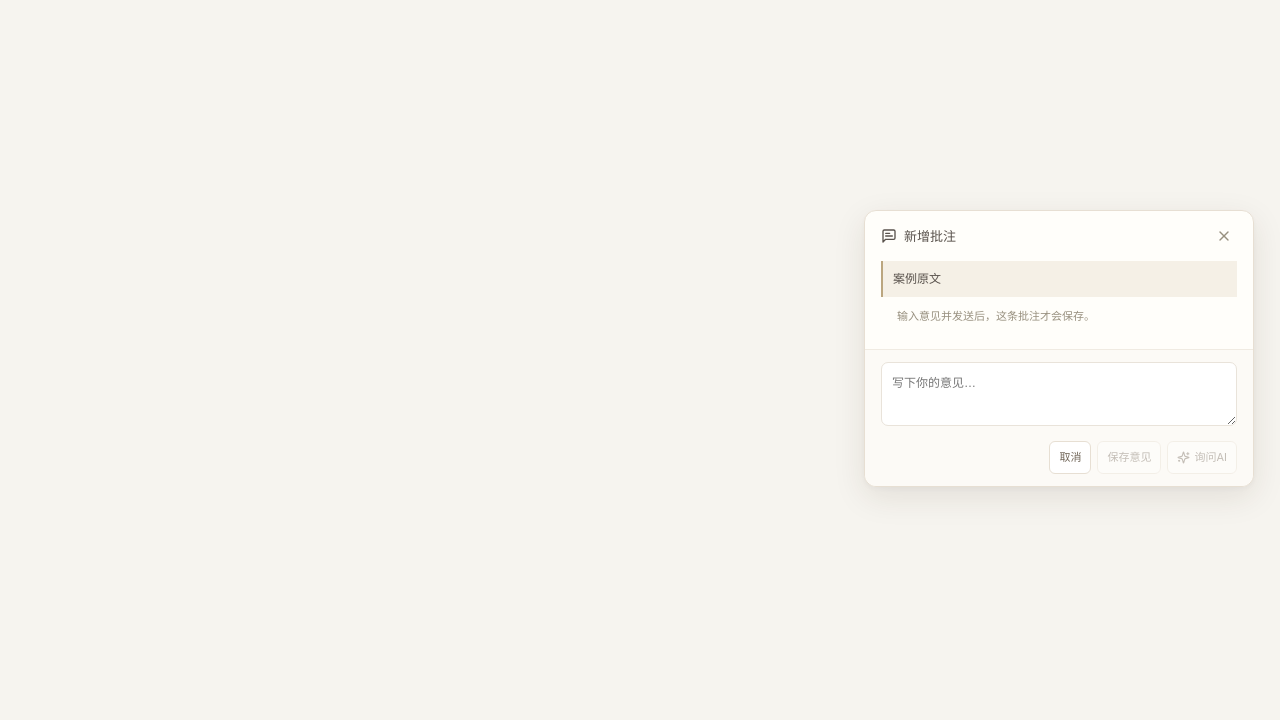
Test: beforeSave 门禁拒绝时不发送保存请求
This screenshot has width=1280, height=720.
Type "门禁拦截" into the text box named "批注内容".
click(1059, 394); type("门禁拦截")  # box [881,362,1237,426]
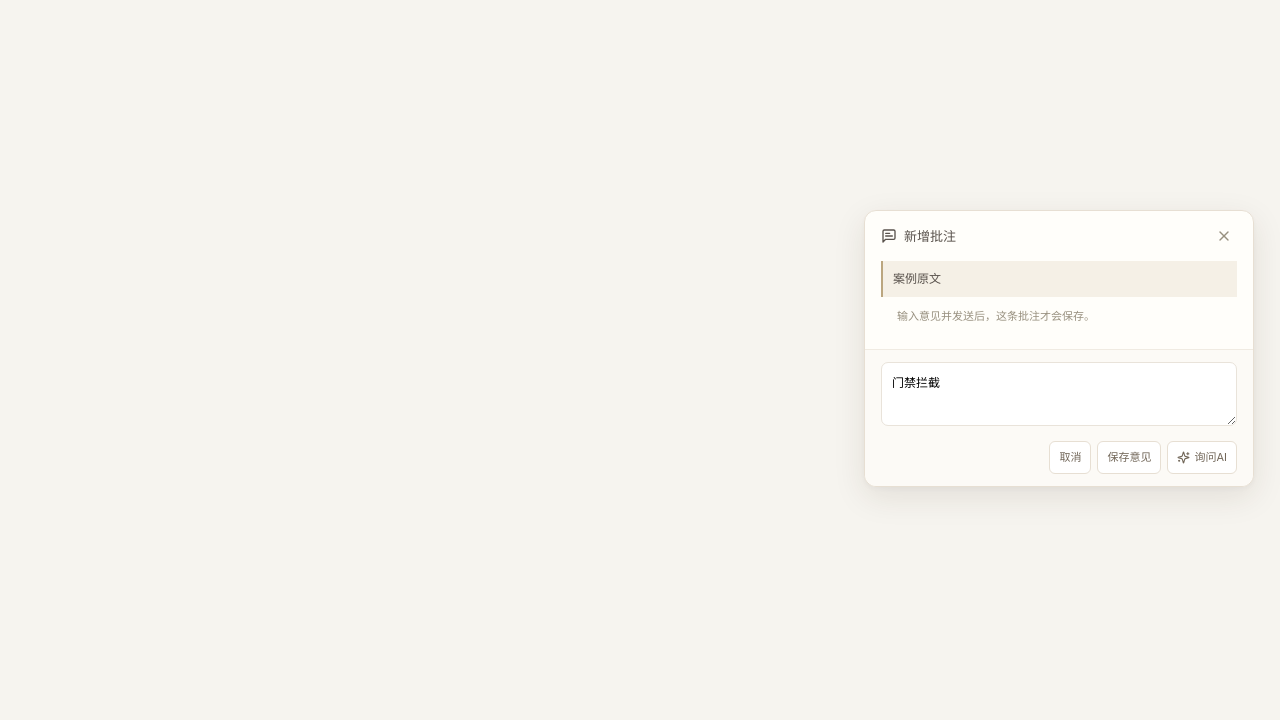
Click the button "保存意见".
click(1130, 457)  # box [1098,441,1162,474]
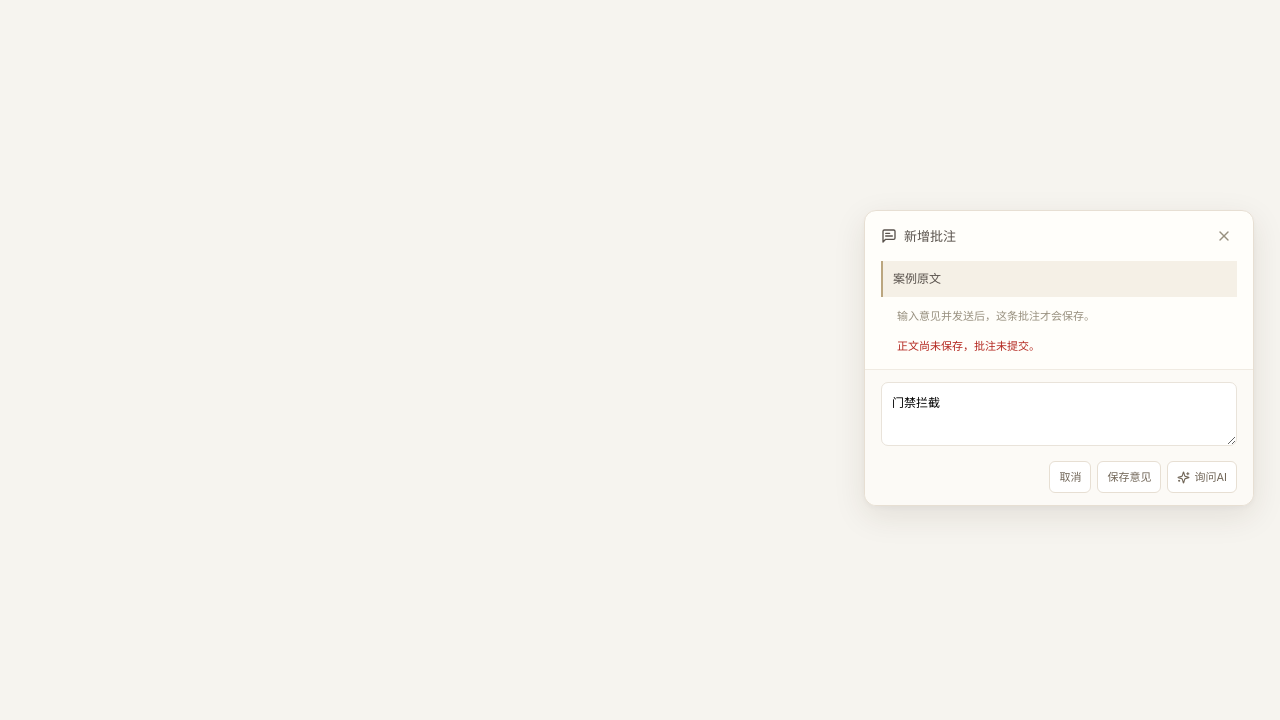
Check: the message "正文尚未保存，批注未提交。" is shown, box [897,339,1040,353]
